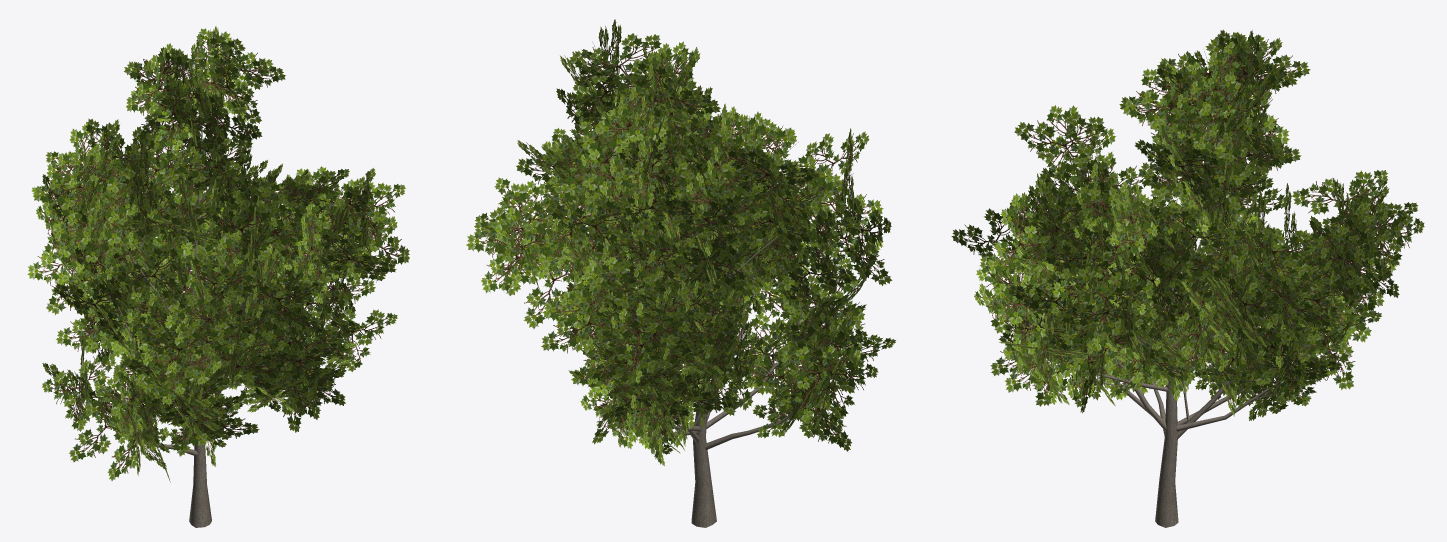
Rendered from Acer_Pseudoplatanus_Spring_Young.glb.
3 views of the same model, side by side, from view 1: azimuth 30°, elevation 25°; view 2: azimuth 150°, elevation 25°; view 3: azimuth 270°, elevation 25° (orthographic). The views are drawn at different scales.
Visible parts, largest first — view 1: Acer_Pseudoplatanus_Spring_Young__LOD3; view 2: Acer_Pseudoplatanus_Spring_Young__LOD3; view 3: Acer_Pseudoplatanus_Spring_Young__LOD3.
Boxes of the visible parts, x1=… form: Acer_Pseudoplatanus_Spring_Young__LOD3: x1=27, y1=26, x2=409, y2=527; Acer_Pseudoplatanus_Spring_Young__LOD3: x1=466, y1=19, x2=895, y2=527; Acer_Pseudoplatanus_Spring_Young__LOD3: x1=951, y1=29, x2=1424, y2=527.
Size of the model in its own units: 6.61 by 8.2 by 7.1.
2 materials, 2 textured.
